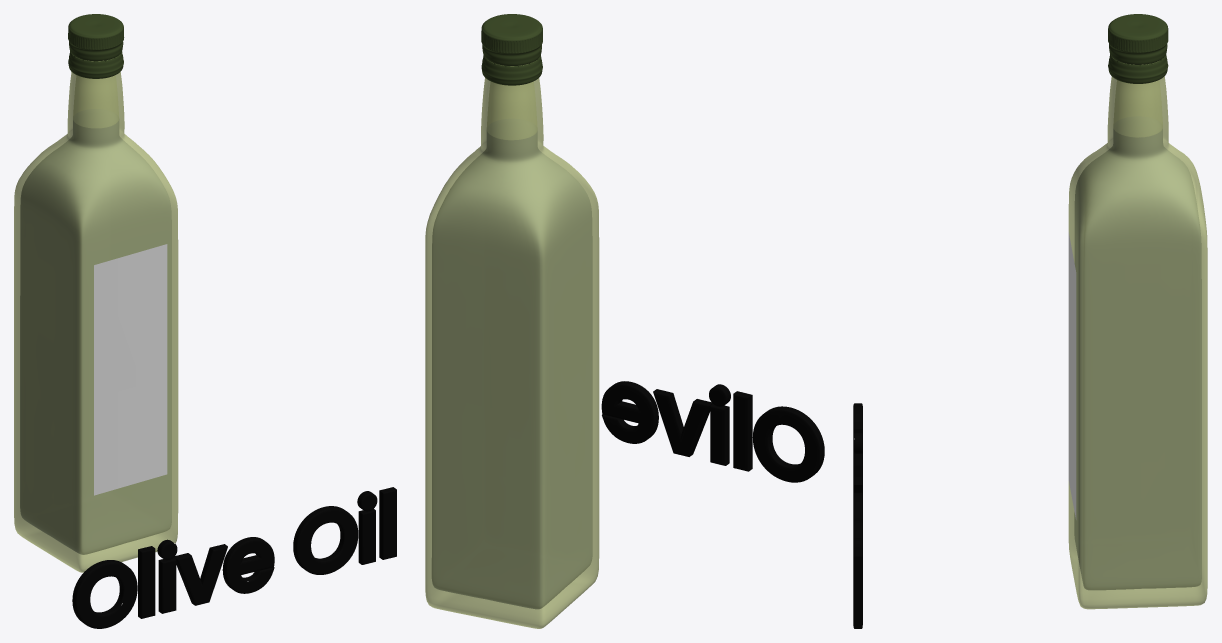
The model's file is olive oil.fbx.
The picture shows the model from 3 angles, left to right: view 1: azimuth 30°, elevation 25°; view 2: azimuth 150°, elevation 25°; view 3: azimuth 270°, elevation 25°; orthographic projection. The views are drawn at different scales.
Parts seen in each view (by area): view 1: AM118_051_AM118_051_liqui_0, AM118_051_AM118_051_Glass_0, AM118_051_AM118_051_Cover_0, typeMesh2, AM118_051_AM118_051_Paint_0; view 2: AM118_051_AM118_051_liqui_0, AM118_051_AM118_051_Glass_0, typeMesh2, AM118_051_AM118_051_Paint_0; view 3: AM118_051_AM118_051_liqui_0, AM118_051_AM118_051_Glass_0, AM118_051_AM118_051_Paint_0, AM118_051_AM118_051_Cover_0, typeMesh2.
Part boxes in pixels (<box>): AM118_051_AM118_051_liqui_0: <box>14,57,178,572</box>; AM118_051_AM118_051_Glass_0: <box>20,109,171,554</box>; AM118_051_AM118_051_Cover_0: <box>94,244,167,495</box>; typeMesh2: <box>72,487,396,628</box>; AM118_051_AM118_051_Paint_0: <box>68,14,124,78</box>; AM118_051_AM118_051_liqui_0: <box>425,62,599,628</box>; AM118_051_AM118_051_Glass_0: <box>432,119,592,608</box>; typeMesh2: <box>601,381,824,482</box>; AM118_051_AM118_051_Paint_0: <box>481,14,542,85</box>; AM118_051_AM118_051_liqui_0: <box>1068,58,1207,609</box>; AM118_051_AM118_051_Glass_0: <box>1074,117,1201,589</box>; AM118_051_AM118_051_Paint_0: <box>1108,14,1168,83</box>; AM118_051_AM118_051_Cover_0: <box>1068,232,1076,519</box>; typeMesh2: <box>853,403,862,628</box>.
Size of the model in its own units: 180 by 277 by 159.
